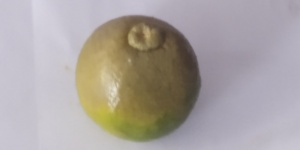BAD: (73, 14, 203, 144)
